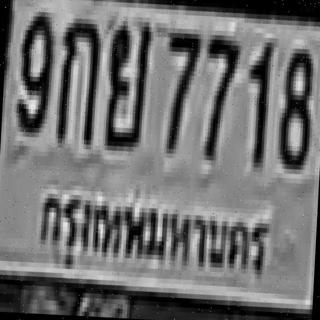A01: (56, 13, 100, 140)
A34: (102, 16, 150, 147)
N01: (244, 37, 272, 163)
N07: (202, 30, 239, 157), (162, 28, 199, 150)
N08: (275, 44, 312, 165)
N09: (13, 6, 53, 133)
P04: (31, 177, 274, 295)
